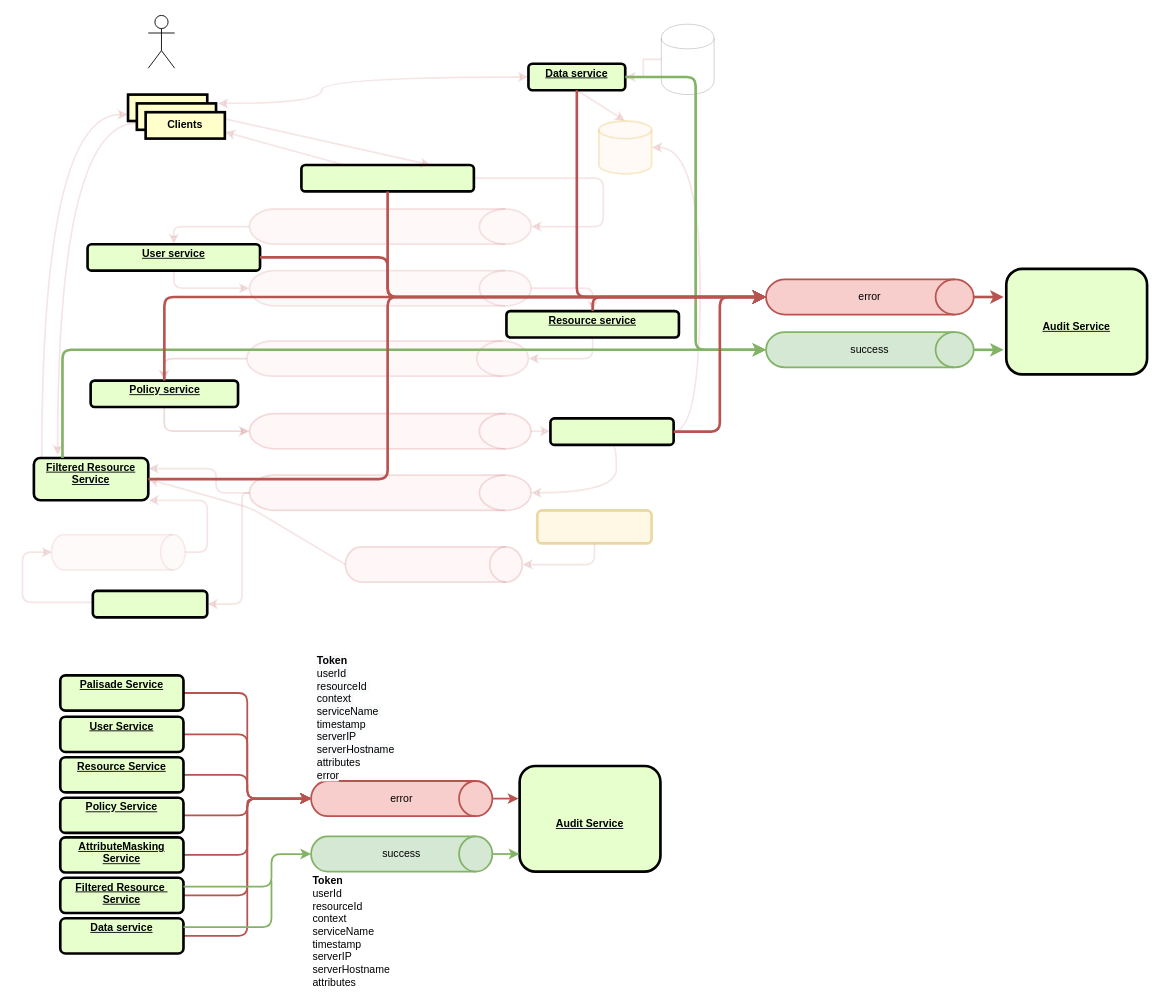
Some shapes in this 1163 by 1008 pixel diagram are drawn without their labels. The centre of each missing label's shape, as x and y in pixels:
"Actor" goes at point 161,41.
"AttriuteMaskingService" goes at point 612,431.
"Error added from any of the services" goes at point 594,526.
"Palisade" goes at point 387,177.
"Topic Offset Service" goes at point 149,603.
